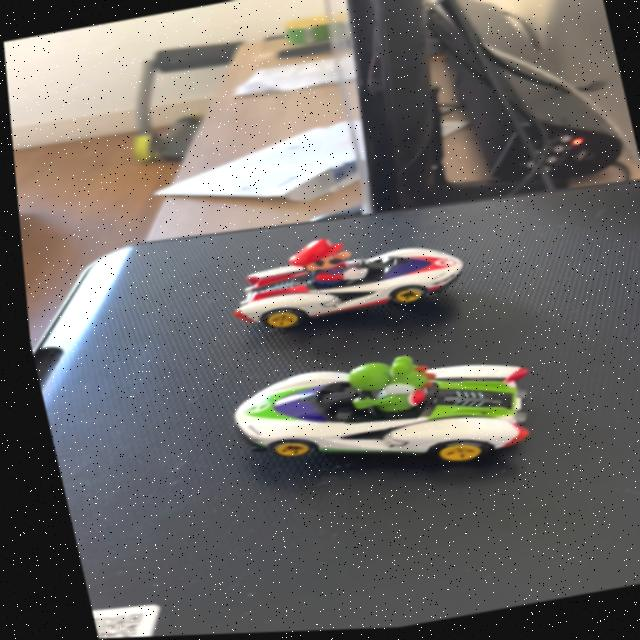mario: (212, 215, 479, 343)
yoshi: (207, 317, 566, 502)
